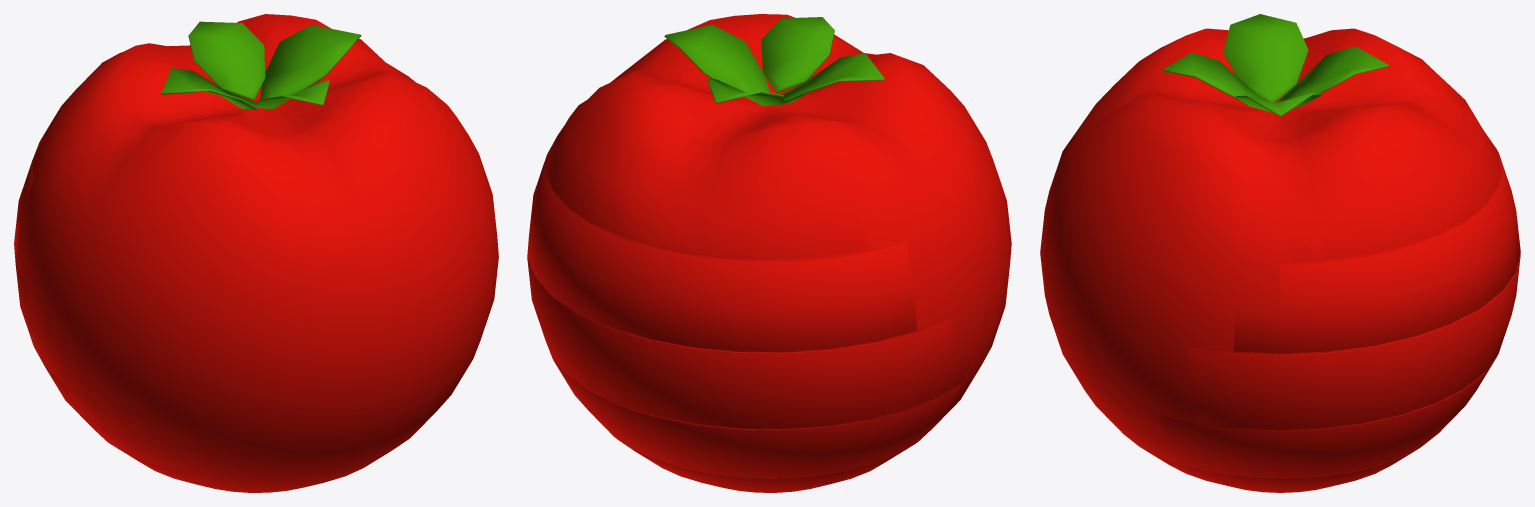
Rendered from tomato.fbx.
3 renders of one model, left to right at view 1: azimuth 30°, elevation 25°; view 2: azimuth 150°, elevation 25°; view 3: azimuth 270°, elevation 25°, orthographic.
Visible parts, largest first — view 1: tomato, tomato.003, tomato.005, tomato.004, tomato.001, tomato.002; view 2: tomato, tomato.002, tomato.001, tomato.003, tomato.004, tomato.005; view 3: tomato, tomato.002, tomato.003, tomato.001, tomato.004, tomato.005.
Part boxes in pixels (x1,y1,x2,y2): tomato: [14, 14, 498, 490]; tomato.003: [14, 244, 61, 380]; tomato.005: [111, 444, 322, 492]; tomato.004: [38, 355, 125, 452]; tomato.001: [34, 35, 321, 156]; tomato.002: [14, 161, 33, 261]; tomato: [534, 14, 1011, 478]; tomato.002: [527, 155, 916, 351]; tomato.001: [546, 35, 884, 259]; tomato.003: [527, 257, 975, 428]; tomato.004: [553, 359, 962, 477]; tomato.005: [617, 439, 915, 492]; tomato: [1040, 14, 1515, 478]; tomato.002: [1233, 152, 1520, 353]; tomato.003: [1188, 253, 1520, 429]; tomato.001: [1163, 23, 1501, 260]; tomato.004: [1140, 356, 1497, 478]; tomato.005: [1142, 446, 1421, 492].
Bounding box in the file's own units: 54.06 × 51.14 × 54.09.
